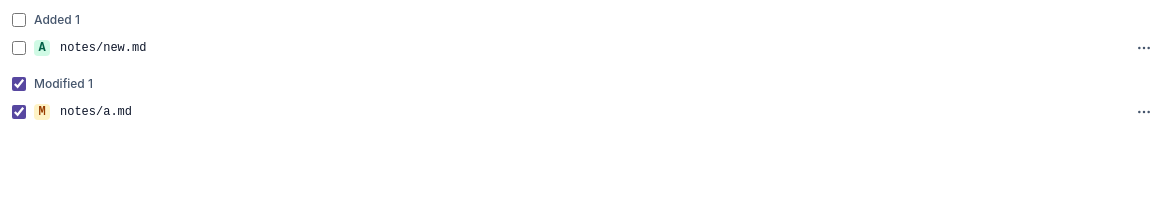
the change list's rows › has no Discard item when the caller may not discard
Click the button named "Actions for notes/a.md" at (1144, 112), box [1128, 96, 1160, 128]
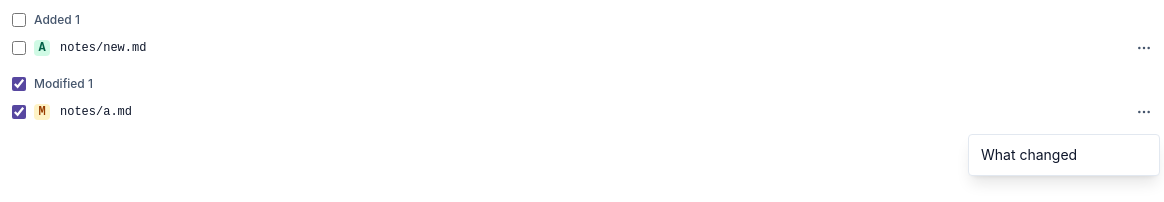
Check: the menu item "What changed" is shown, box [981, 146, 1077, 163]
